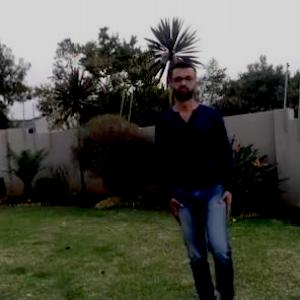follow: (153, 41, 240, 299)
